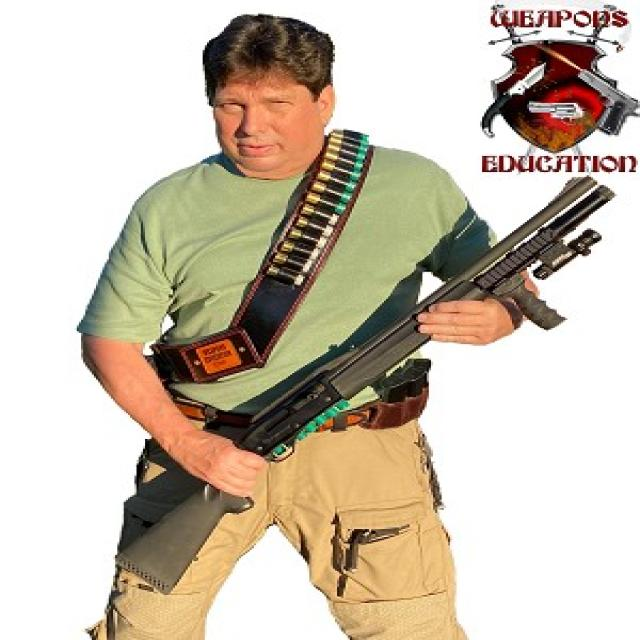ShotGun: (119, 185, 614, 595)
